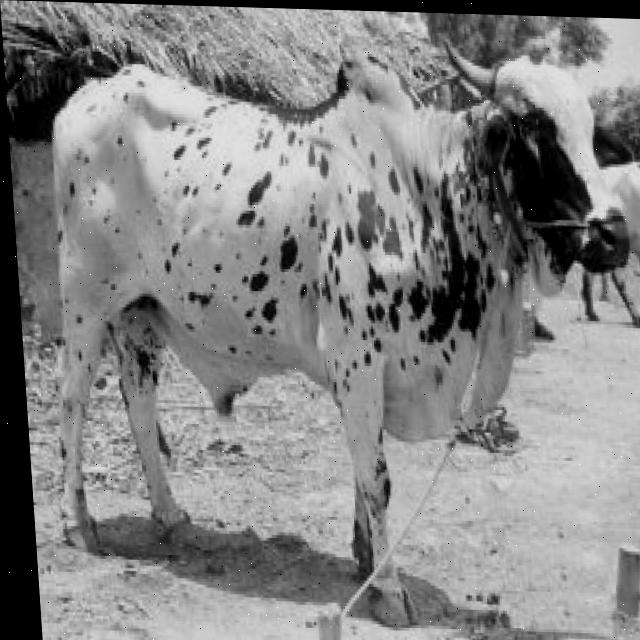Cow: (25, 24, 640, 632)
